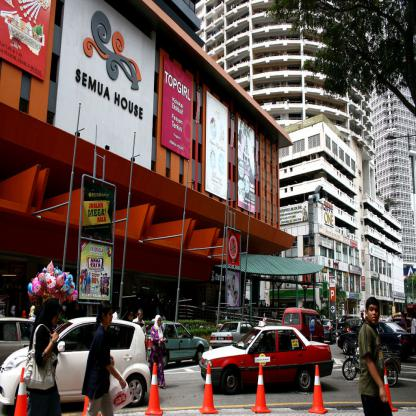Car: (0, 312, 416, 416)
